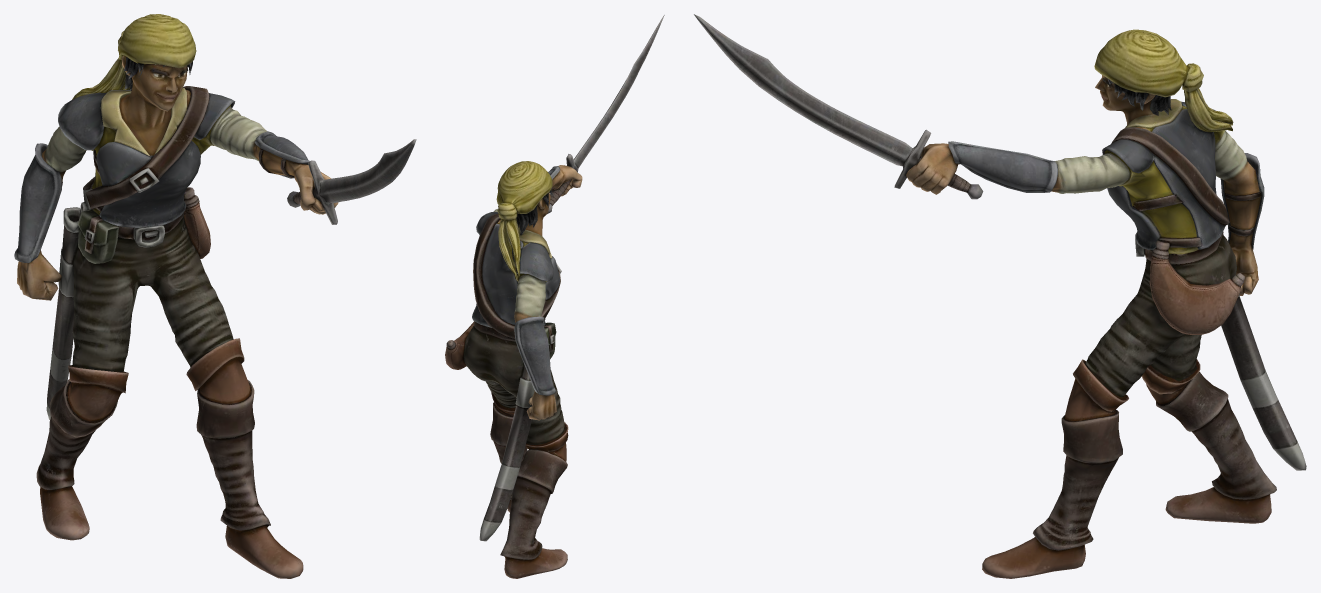
Rendered from MZ4250 - Bandit Female 03.glb.
3 renders of one model, left to right at view 1: azimuth 30°, elevation 25°; view 2: azimuth 150°, elevation 25°; view 3: azimuth 270°, elevation 25°, orthographic. The views are drawn at different scales.
Parts seen in each view (by area): view 1: BanditFemale; view 2: BanditFemale; view 3: BanditFemale.
Boxes of the visible parts, x1,y1,x2,y2 form: BanditFemale: (14,14,416,578); BanditFemale: (445,15,664,578); BanditFemale: (694,14,1306,578).
Size of the model in its own units: 0.3528 by 1.08 by 1.1.
1 material, 1 textured.
